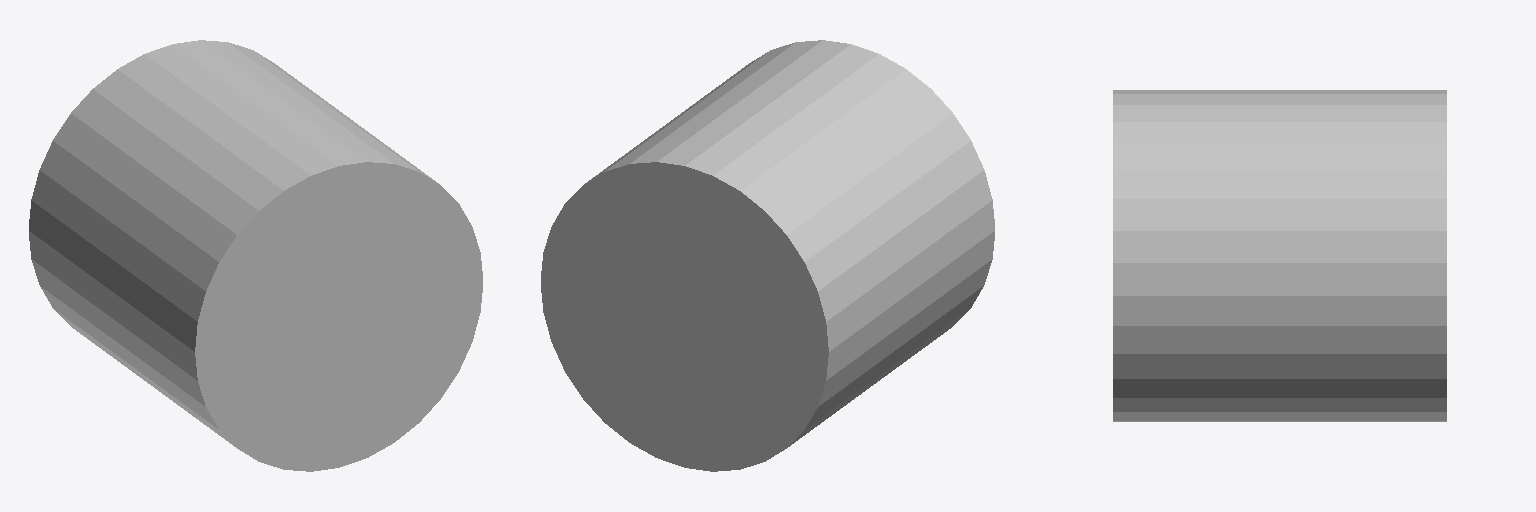
File: dragonCylinder.obj
The picture shows the model from 3 angles: view 1: azimuth 30°, elevation 25°; view 2: azimuth 150°, elevation 25°; view 3: azimuth 270°, elevation 25°; orthographic projection.
Parts seen in each view (by area): view 1: DragonPartFront; view 2: DragonPartFront; view 3: DragonPartFront.
Part boxes in pixels (x1,y1,x2,y2): DragonPartFront: (29,40,482,471); DragonPartFront: (541,40,994,471); DragonPartFront: (1113,90,1446,421).
Bounding box in the file's own units: 0.4 × 0.4 × 0.4.